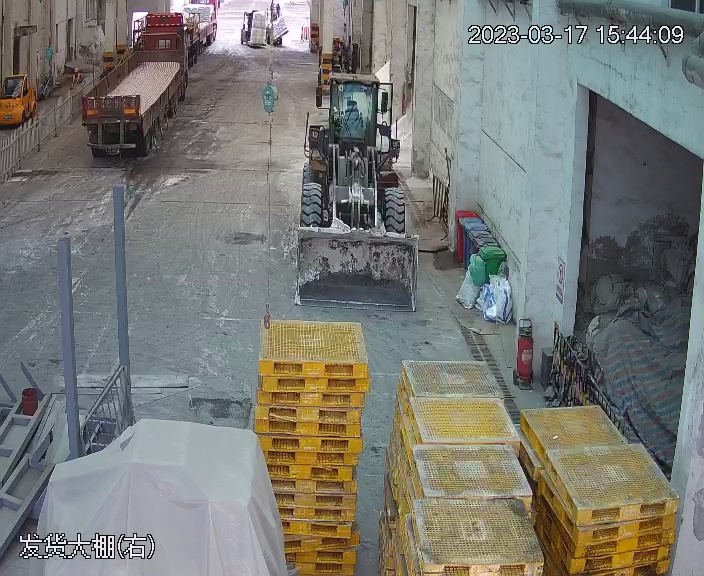truck: (77, 5, 212, 161)
